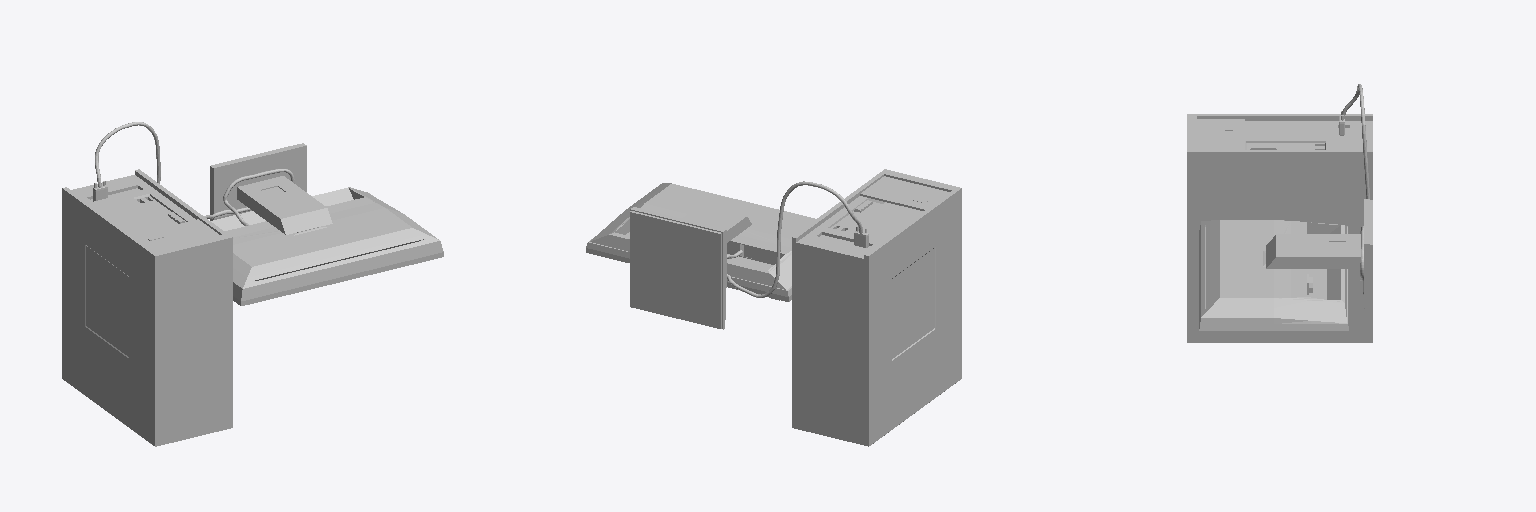
File: Wolf Logan.obj
3 renders of one model, left to right at view 1: azimuth 30°, elevation 25°; view 2: azimuth 150°, elevation 25°; view 3: azimuth 270°, elevation 25°, orthographic.
Visible parts, largest first — view 1: Cube_002, Cube, Circle; view 2: Cube_002, Cube, Circle; view 3: Cube_002, Cube, Circle.
Part boxes in pixels (x1,y1,x2,y2): Cube_002: (62, 169, 232, 446); Cube: (210, 143, 443, 305); Circle: (95, 122, 294, 225); Cube_002: (792, 169, 961, 446); Cube: (586, 183, 815, 329); Circle: (727, 181, 862, 297); Cube_002: (1187, 114, 1372, 342); Cube: (1199, 199, 1372, 341); Circle: (1342, 84, 1369, 280).
Size of the model in its own units: 6.32 by 5.08 by 3.47.